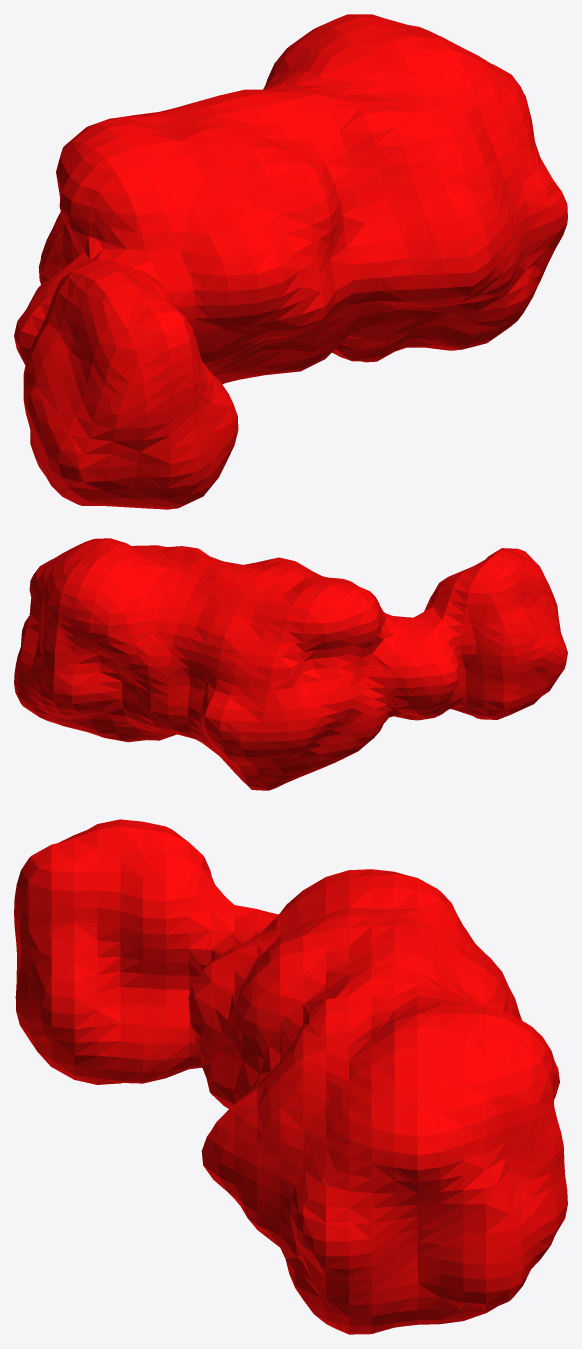
The model's file is cytR_coarse.dae.
The picture shows the model from 3 angles, top to bottom: view 1: azimuth 30°, elevation 25°; view 2: azimuth 150°, elevation 25°; view 3: azimuth 270°, elevation 25°; orthographic projection. The views are drawn at different scales.
Parts seen in each view (by area): view 1: cytR; view 2: cytR; view 3: cytR.
Boxes of the visible parts, bbox=[...] form: cytR: bbox=[14, 14, 567, 509]; cytR: bbox=[14, 538, 567, 790]; cytR: bbox=[14, 819, 567, 1334].
Size of the model in its own units: 84.29 by 38.7 by 62.95.
